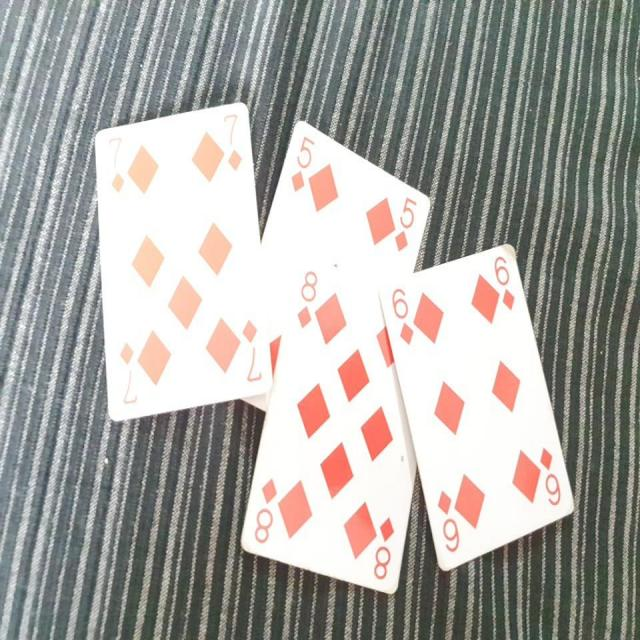5 Diamonds: (261, 118, 432, 342)
6 Diamonds: (379, 242, 574, 569)
7 Diamonds: (90, 99, 270, 425)
8 Diamonds: (240, 266, 415, 594)
